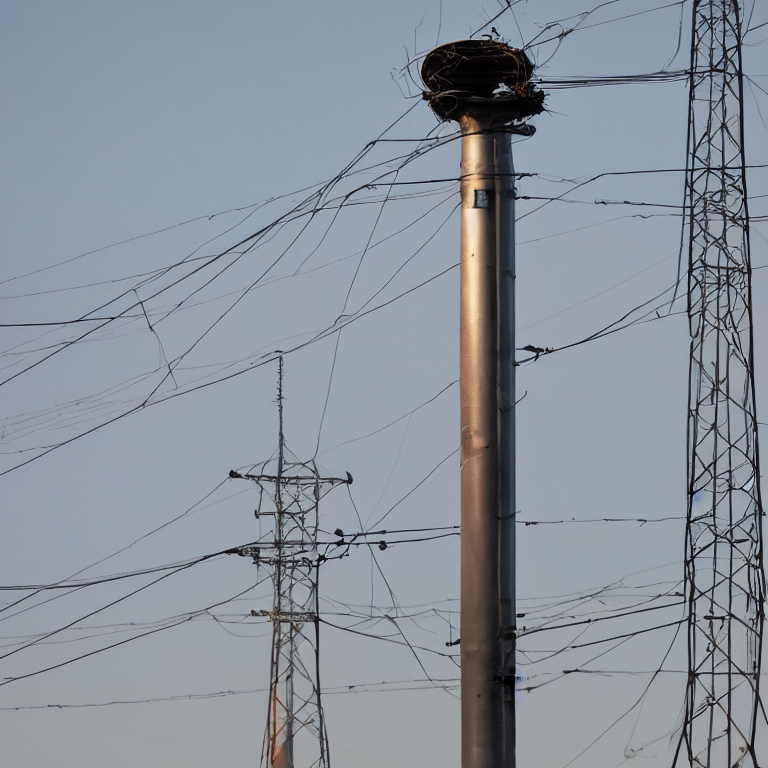nest: (427, 51, 542, 116)
